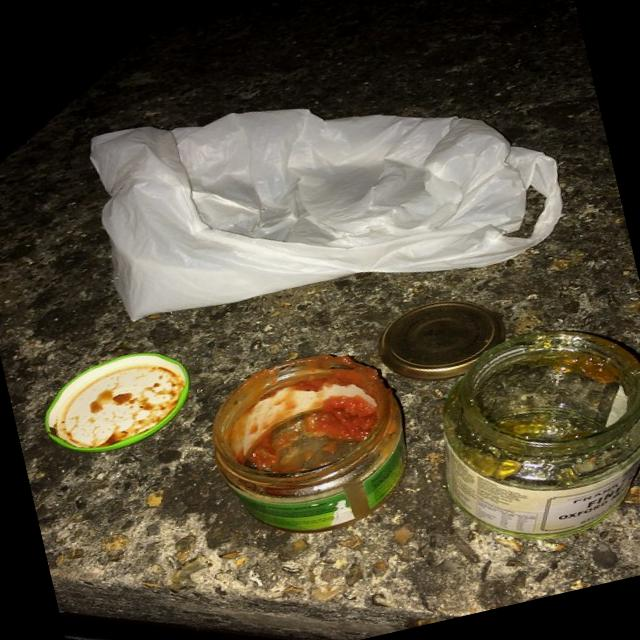Trash: (75, 25, 578, 348), (423, 313, 640, 560), (198, 332, 426, 556), (21, 332, 198, 466), (366, 282, 512, 392)
